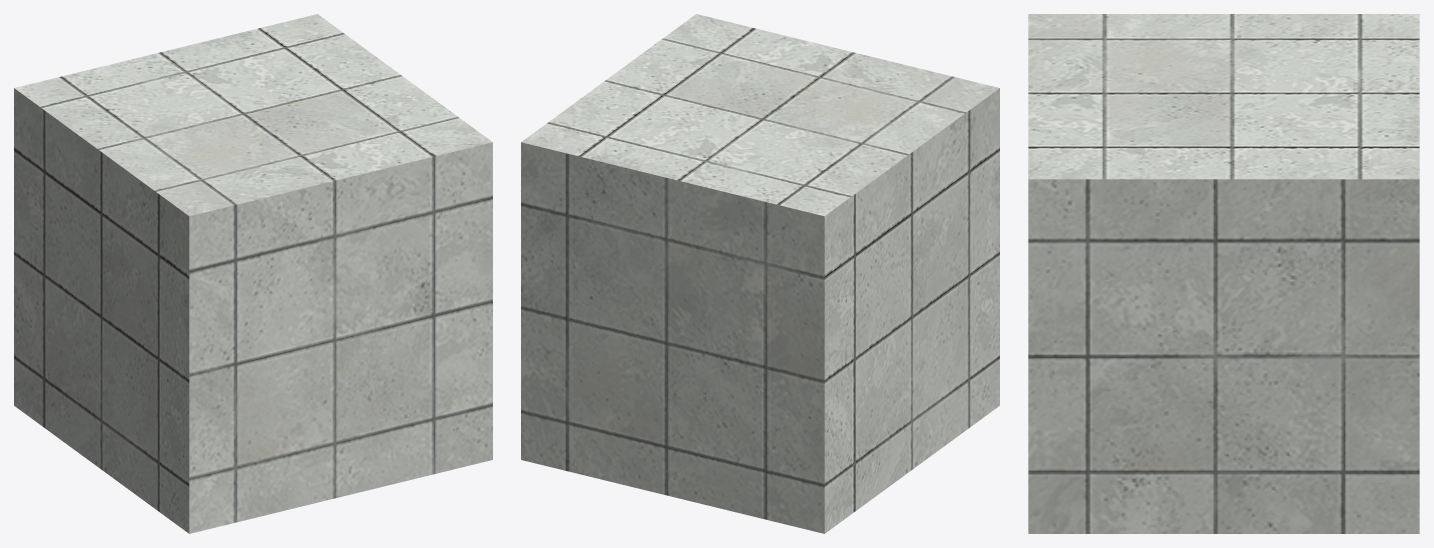
The model's file is shitLevel.fbx.
3 renders of one model, left to right at view 1: azimuth 30°, elevation 25°; view 2: azimuth 150°, elevation 25°; view 3: azimuth 270°, elevation 25°, orthographic. The views are drawn at different scales.
Parts seen in each view (by area): view 1: Cube.001; view 2: Cube.001; view 3: Cube.001.
Boxes of the visible parts, x1,y1,x2,y2 form: Cube.001: (14, 14, 492, 533); Cube.001: (521, 14, 999, 533); Cube.001: (1028, 14, 1419, 533).
Bounding box in the file's own units: 1817 × 1817 × 1817.
